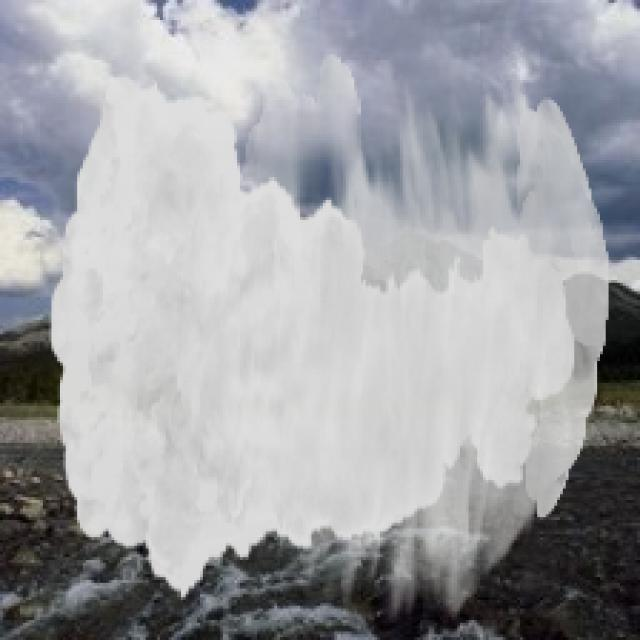smoke: (49, 54, 608, 623)
